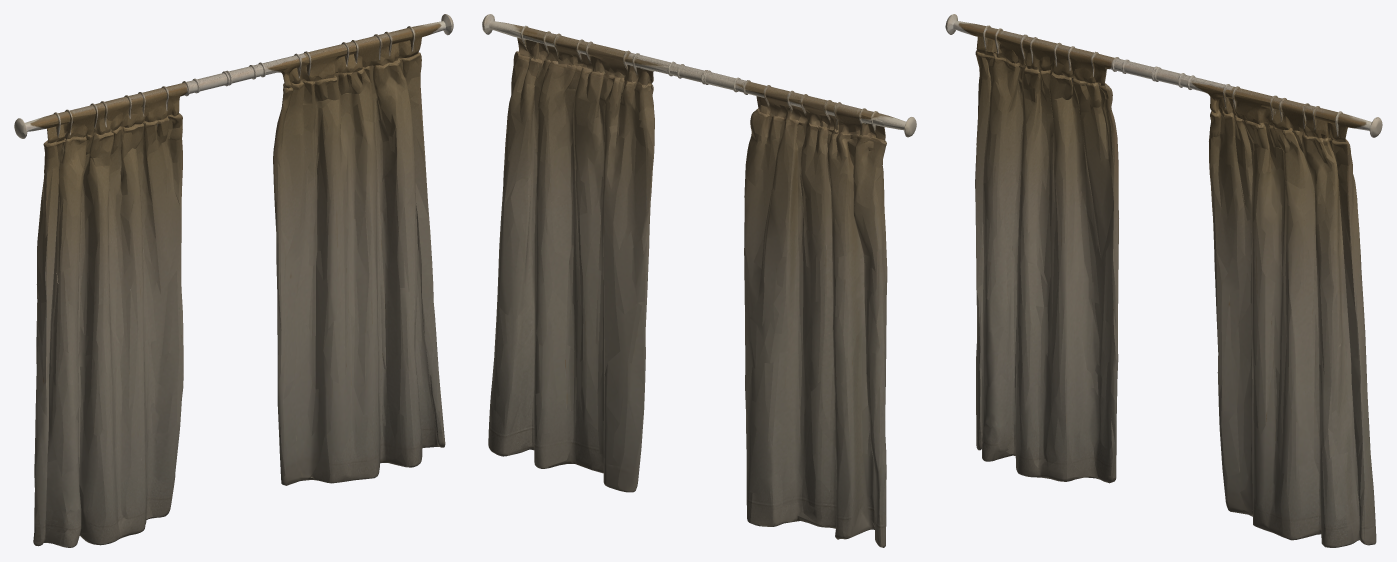
File: tenda_binario_B.glb
3 views of the same model, side by side, from view 1: azimuth 30°, elevation 25°; view 2: azimuth 150°, elevation 25°; view 3: azimuth 330°, elevation 25° (orthographic).
Bounding box in the file's own units: 1.9 × 1.85 × 0.1598.
1 material, 1 textured.
